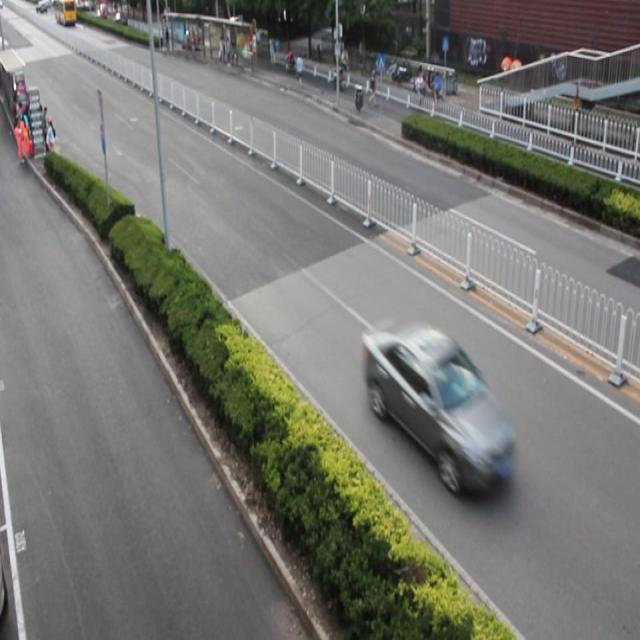car: (360, 320, 514, 494)
